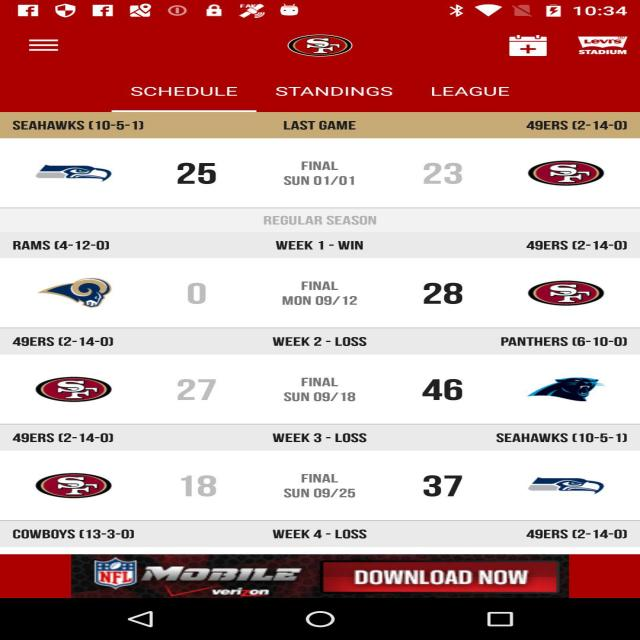button: (15, 32, 80, 62)
icon: (498, 27, 560, 66)
image: (64, 551, 565, 597), (500, 151, 612, 195), (523, 274, 613, 314), (35, 276, 124, 313), (30, 371, 116, 409), (35, 468, 120, 505), (28, 152, 120, 186), (276, 30, 365, 64), (526, 374, 603, 406), (523, 471, 613, 498), (573, 32, 634, 62)
text: (167, 268, 471, 315), (175, 368, 476, 412), (163, 461, 463, 505), (160, 152, 470, 193), (504, 515, 628, 549), (257, 333, 410, 359), (244, 521, 380, 550), (11, 519, 149, 547), (476, 337, 639, 359), (4, 114, 158, 137), (484, 427, 630, 451), (264, 426, 380, 456), (2, 426, 134, 452), (7, 329, 130, 354), (511, 235, 630, 258), (119, 81, 247, 102), (266, 234, 396, 254), (271, 82, 392, 103), (428, 81, 518, 106), (6, 234, 118, 254), (518, 116, 632, 134), (274, 115, 368, 136), (259, 213, 390, 228)
